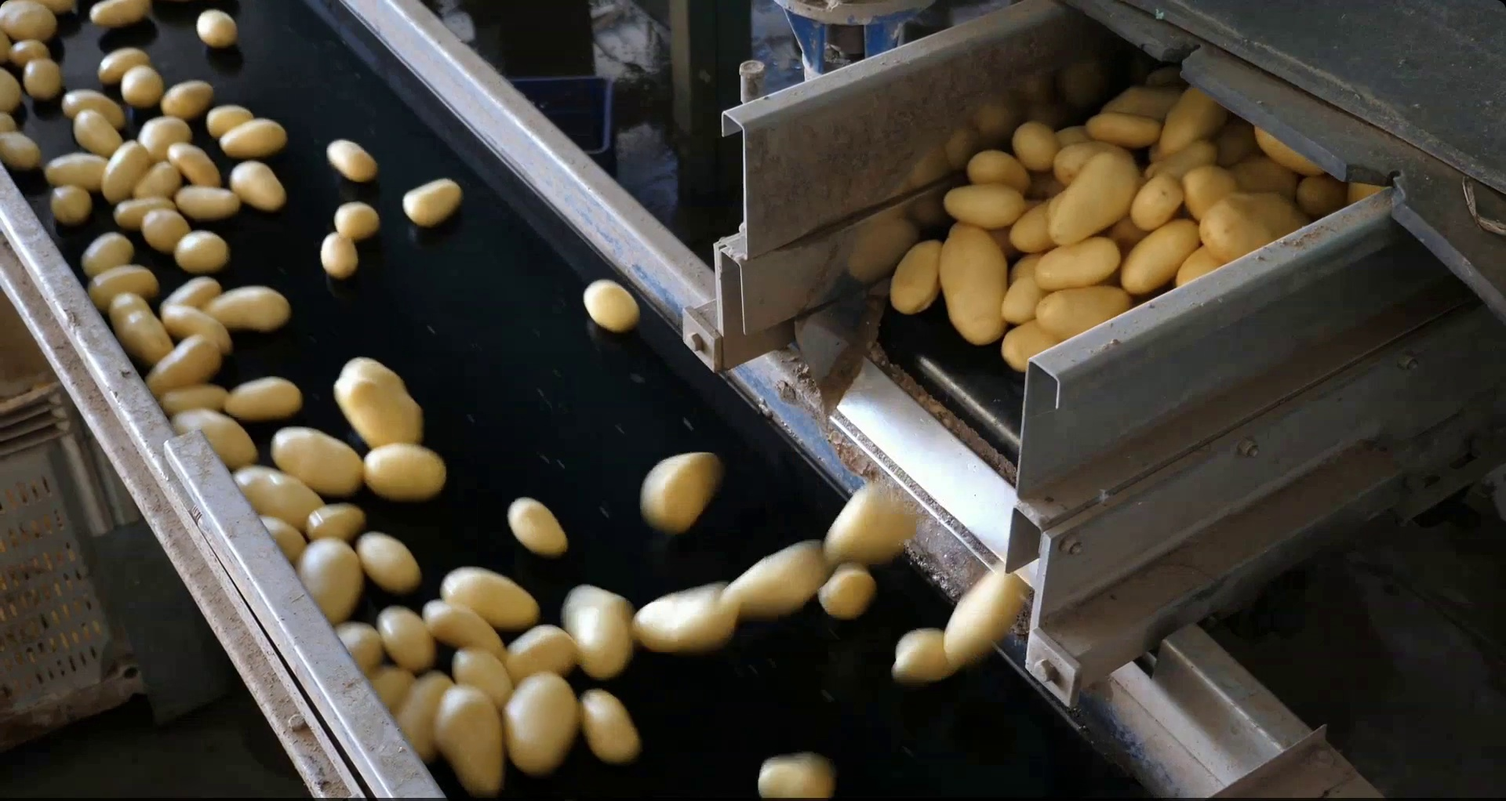potato: (937, 561, 1033, 676), (715, 535, 834, 626), (1195, 185, 1320, 270), (1041, 145, 1142, 250), (329, 351, 430, 454), (819, 473, 924, 571), (627, 576, 744, 661), (937, 217, 1013, 346), (498, 667, 583, 781), (429, 683, 509, 800), (634, 445, 728, 539), (556, 579, 637, 685), (1115, 212, 1207, 300), (264, 422, 368, 496), (435, 563, 545, 630), (293, 532, 367, 627), (1031, 281, 1139, 343), (391, 665, 457, 766), (356, 438, 453, 505), (1154, 77, 1231, 161), (166, 406, 260, 472), (1029, 232, 1124, 297), (140, 332, 229, 401), (230, 463, 327, 526), (576, 683, 646, 768), (107, 292, 176, 368), (886, 233, 947, 318), (1177, 158, 1250, 227), (499, 622, 580, 684), (352, 527, 424, 596), (202, 282, 296, 334), (417, 598, 505, 653), (939, 178, 1031, 230), (373, 603, 440, 674), (752, 748, 841, 801), (504, 493, 573, 561), (449, 642, 518, 709), (1046, 136, 1129, 191), (158, 298, 238, 355), (888, 623, 959, 687), (1135, 134, 1223, 184), (221, 372, 307, 423), (813, 562, 880, 622), (1253, 122, 1326, 177), (224, 156, 291, 215), (398, 173, 467, 230), (82, 262, 162, 311), (579, 274, 643, 335), (1083, 106, 1167, 152), (98, 136, 154, 204), (1126, 171, 1186, 234), (999, 317, 1062, 375), (1005, 195, 1061, 259), (962, 146, 1035, 195), (1169, 237, 1232, 292), (154, 379, 236, 420), (218, 115, 291, 161), (1094, 82, 1180, 121), (333, 617, 387, 678), (169, 227, 234, 277), (302, 499, 369, 545), (253, 511, 308, 567), (362, 661, 418, 716), (40, 148, 110, 192), (322, 135, 383, 185), (133, 111, 194, 160), (997, 264, 1045, 326), (68, 106, 125, 158), (77, 230, 136, 280), (172, 182, 245, 222), (158, 274, 227, 314), (1009, 118, 1060, 172), (157, 76, 218, 121), (140, 204, 194, 254), (56, 85, 127, 122), (93, 43, 152, 87), (330, 198, 384, 245), (130, 158, 186, 202), (116, 63, 167, 111), (110, 193, 176, 230), (165, 138, 219, 183), (1, 1, 60, 42), (318, 228, 362, 282), (1294, 172, 1348, 215), (45, 182, 96, 227), (18, 56, 64, 103), (84, 1, 155, 31), (193, 7, 240, 52), (202, 100, 257, 138), (1, 125, 45, 172), (1031, 285, 1074, 332), (1002, 250, 1049, 286), (3, 36, 56, 67), (1344, 179, 1391, 204), (1051, 121, 1089, 150), (1, 1, 91, 10), (1, 12, 14, 71), (1, 107, 18, 140)
